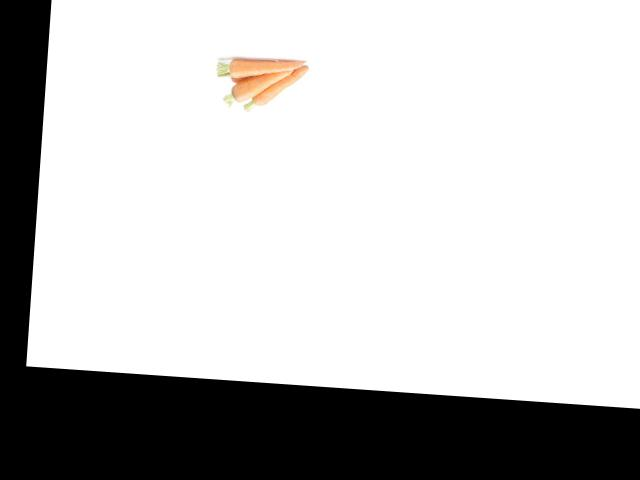carrot: (221, 48, 309, 82)
